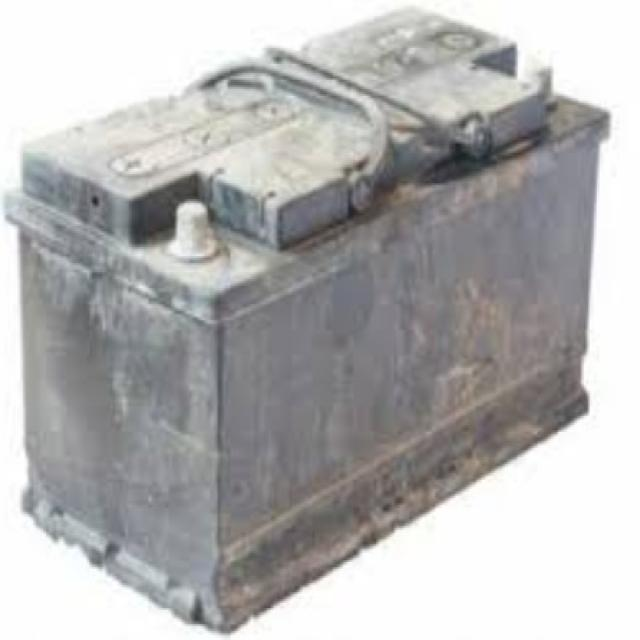elektronik: (3, 19, 604, 628)
